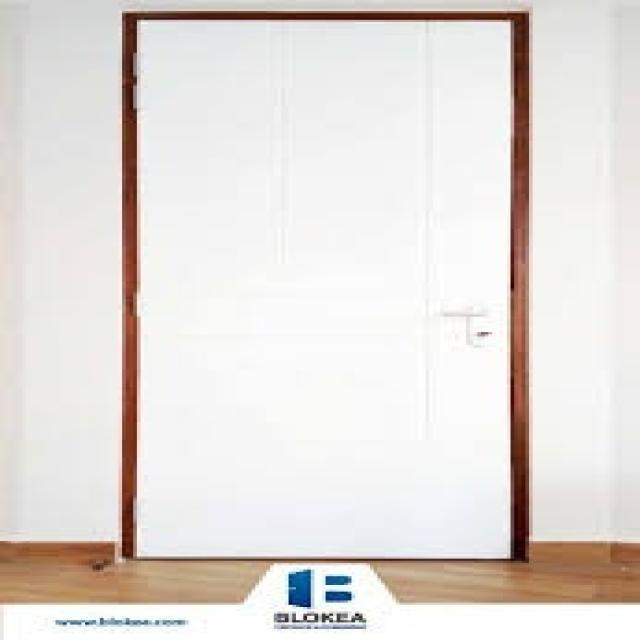door: (124, 10, 524, 562)
